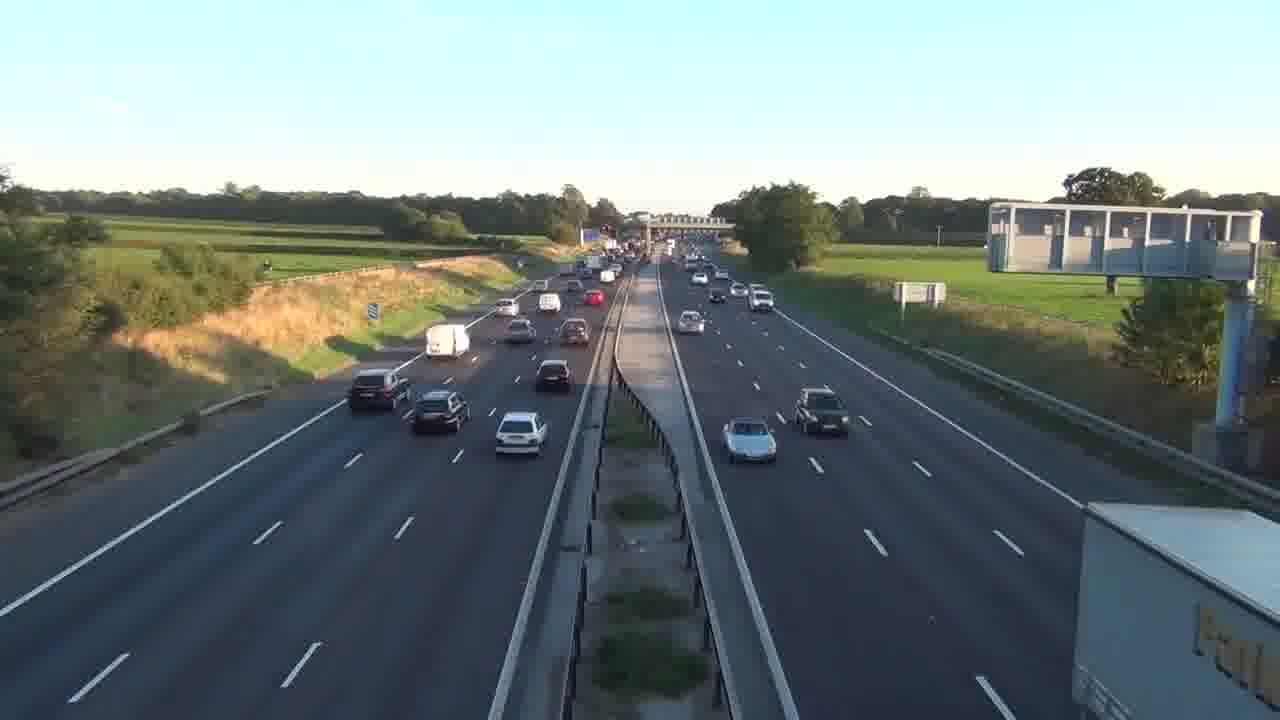car: (793, 385, 850, 437), (407, 388, 470, 435), (721, 417, 778, 464), (495, 411, 549, 456), (535, 359, 573, 393), (677, 308, 704, 334)
truck: (425, 322, 466, 357)
